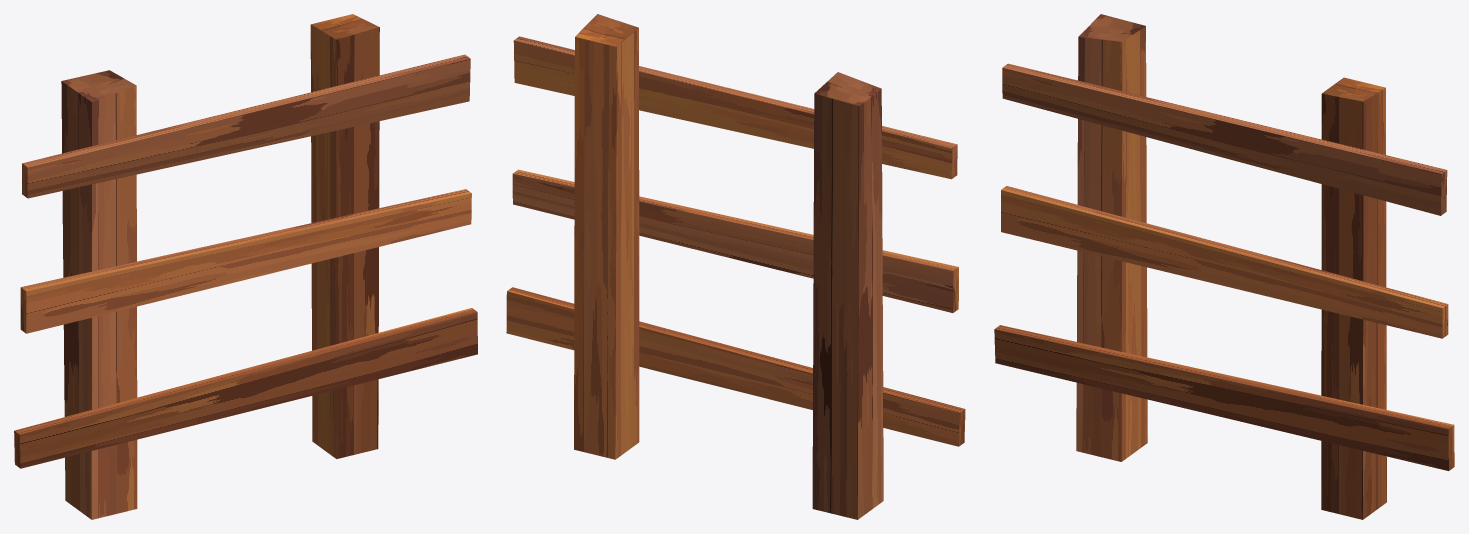
Rendered from fence2.fbx.
The picture shows the model from 3 angles, left to right: view 1: azimuth 30°, elevation 25°; view 2: azimuth 150°, elevation 25°; view 3: azimuth 330°, elevation 25°; orthographic projection.
Visible parts, largest first — view 1: fence; view 2: fence; view 3: fence.
Boxes of the visible parts, left/top/right/bottom form: fence: left=14, top=14, right=477, bottom=519; fence: left=506, top=14, right=965, bottom=519; fence: left=994, top=14, right=1454, bottom=519.
Bounding box in the file's own units: 229 × 202 × 28.61.
